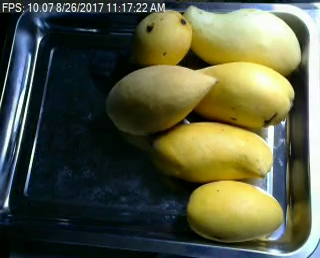Mango: (185, 6, 301, 75), (154, 122, 274, 182), (107, 66, 216, 132), (191, 62, 296, 129), (189, 179, 282, 238), (127, 8, 192, 66)
